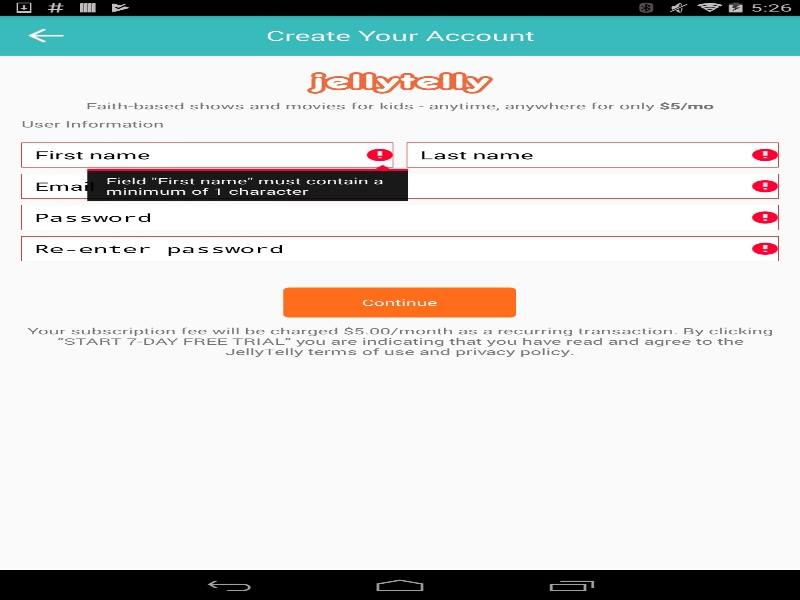Button: (282, 286, 517, 318), (21, 24, 68, 46)
Input: (21, 173, 778, 198), (21, 205, 778, 230), (21, 236, 778, 261), (21, 142, 393, 167), (406, 142, 778, 167)
